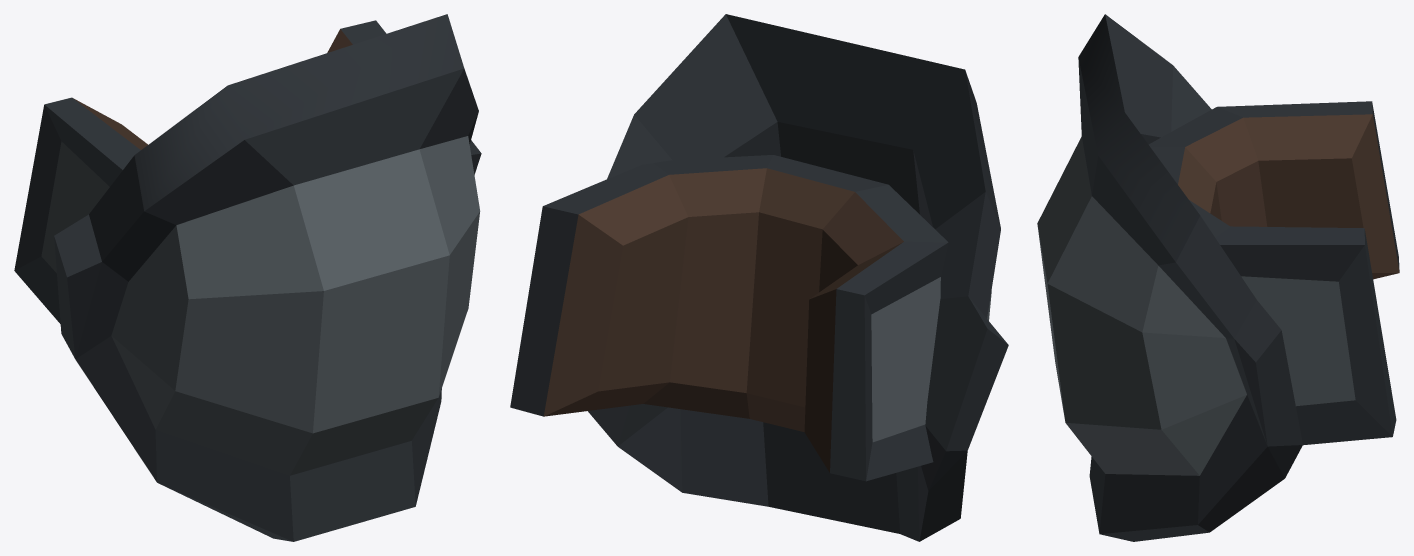
File: Chr_KneeAttachLeft_09_Static.fbx
3 renders of one model, left to right at view 1: azimuth 30°, elevation 25°; view 2: azimuth 150°, elevation 25°; view 3: azimuth 270°, elevation 25°, orthographic. The views are drawn at different scales.
Visible parts, largest first — view 1: Chr_KneeAttachLeft_09_Static; view 2: Chr_KneeAttachLeft_09_Static; view 3: Chr_KneeAttachLeft_09_Static.
Part boxes in pixels (x1,y1,x2,y2): Chr_KneeAttachLeft_09_Static: (14, 14, 481, 541); Chr_KneeAttachLeft_09_Static: (510, 14, 1008, 541); Chr_KneeAttachLeft_09_Static: (1037, 14, 1399, 541).
Size of the model in its own units: 0.2107 by 0.222 by 0.1614.
